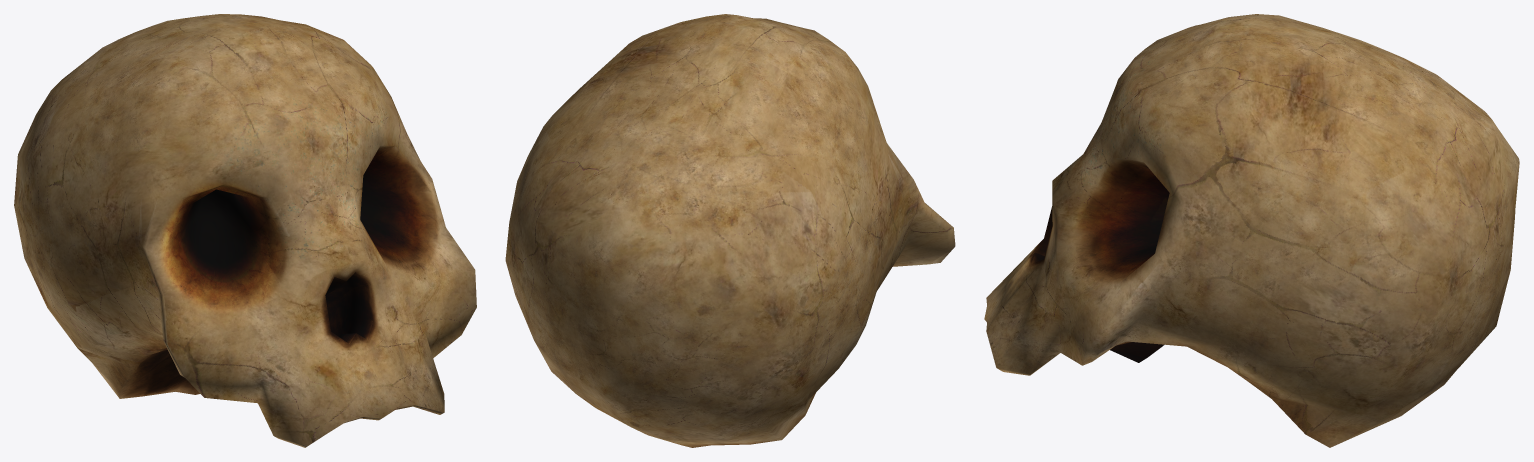
Rendered from skull.glb.
3 views of the same model, side by side, from view 1: azimuth 30°, elevation 25°; view 2: azimuth 150°, elevation 25°; view 3: azimuth 270°, elevation 25° (orthographic). The views are drawn at different scales.
Parts seen in each view (by area): view 1: Skull_LowPoly; view 2: Skull_LowPoly; view 3: Skull_LowPoly.
Part boxes in pixels (<box>): Skull_LowPoly: <box>14,14,476,447</box>; Skull_LowPoly: <box>505,14,955,447</box>; Skull_LowPoly: <box>984,14,1519,447</box>.
Size of the model in its own units: 1.67 by 1.93 by 2.36.
Materials: 1 (1 with a texture image).
